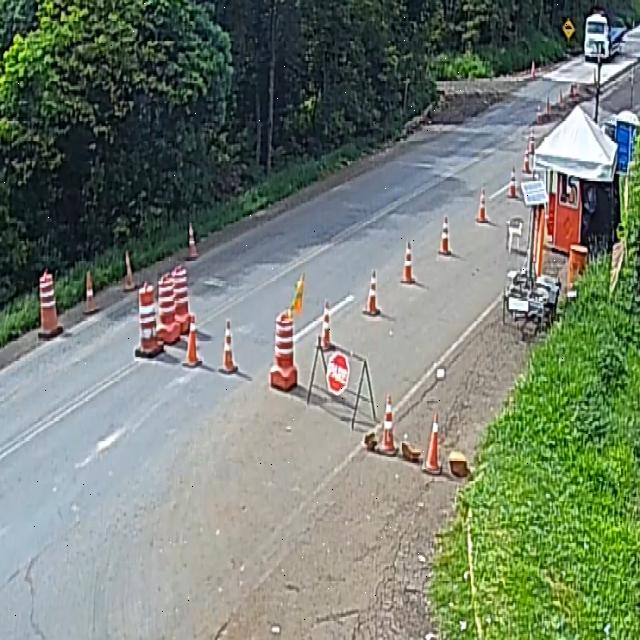big_cone: (270, 308, 301, 400), (36, 268, 64, 343), (138, 288, 156, 353), (159, 278, 173, 342), (174, 269, 187, 332)
small_cone: (426, 410, 438, 471), (384, 393, 394, 451), (187, 324, 198, 372), (223, 319, 232, 373), (321, 300, 331, 348), (84, 272, 97, 308), (124, 250, 134, 291), (368, 270, 377, 315), (188, 221, 196, 259), (477, 188, 486, 221), (441, 215, 449, 252), (404, 241, 411, 283), (508, 166, 516, 197), (524, 148, 528, 172)
stop_sign: (326, 351, 351, 395)
